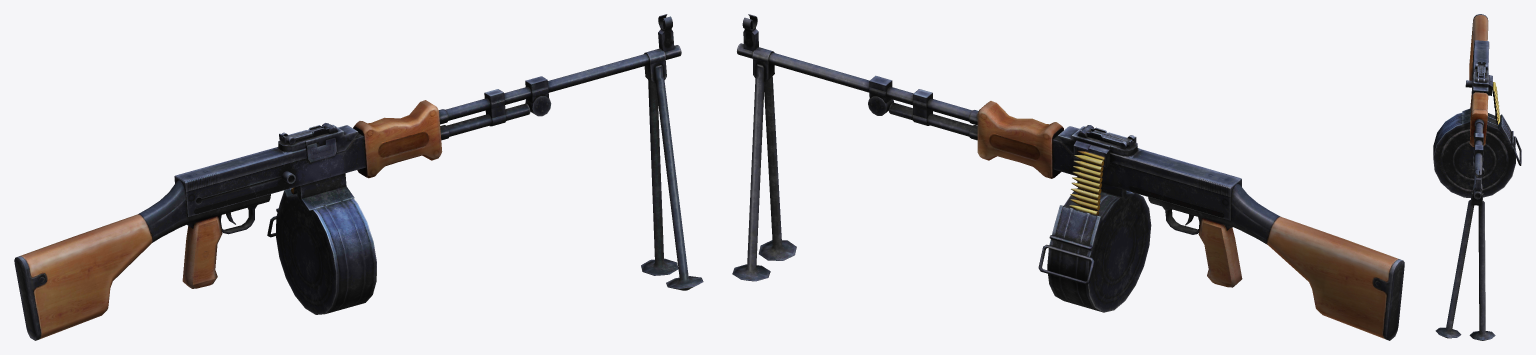
The model's file is Weapon_3003.fbx.
3 views of the same model, side by side, from view 1: azimuth 30°, elevation 25°; view 2: azimuth 150°, elevation 25°; view 3: azimuth 270°, elevation 25° (orthographic). The views are drawn at different scales.
Visible parts, largest first — view 1: Weapon_3003_1, Weapon_3003_clip; view 2: Weapon_3003_1, Weapon_3003_clip; view 3: Weapon_3003_1, Weapon_3003_clip.
Part boxes in pixels (box(x1,y1,x2,y2)): Weapon_3003_1: box(14, 14, 703, 340); Weapon_3003_clip: box(267, 188, 376, 314); Weapon_3003_1: box(732, 14, 1404, 340); Weapon_3003_clip: box(1038, 187, 1151, 312); Weapon_3003_1: box(1435, 14, 1500, 340); Weapon_3003_clip: box(1433, 113, 1521, 197).
Bounding box in the file's own units: 159 × 59.62 × 27.61.
